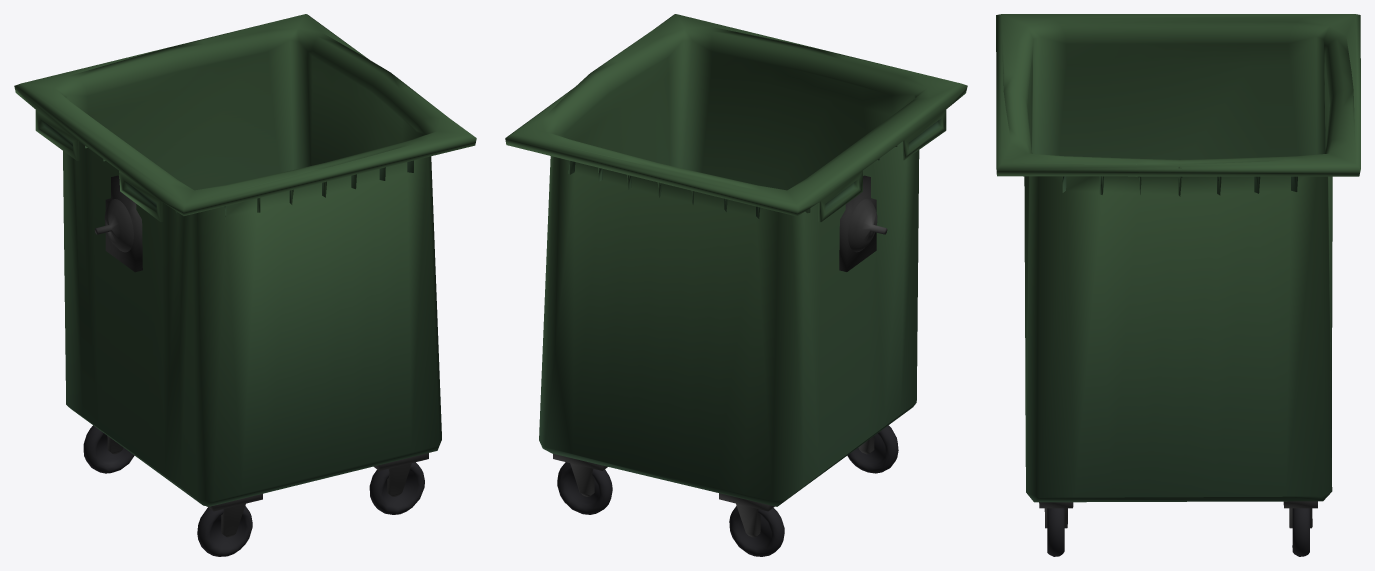
The model's file is trash can.fbx.
The picture shows the model from 3 angles, left to right: view 1: azimuth 30°, elevation 25°; view 2: azimuth 150°, elevation 25°; view 3: azimuth 270°, elevation 25°; orthographic projection. The views are drawn at different scales.
Visible parts, largest first — view 1: Cube.056; view 2: Cube.056; view 3: Cube.056.
Boxes of the visible parts, x1,y1,x2,y2 form: Cube.056: [14, 14, 476, 556]; Cube.056: [505, 14, 967, 556]; Cube.056: [996, 14, 1360, 556].
Size of the model in its own units: 288 by 359 by 286.
